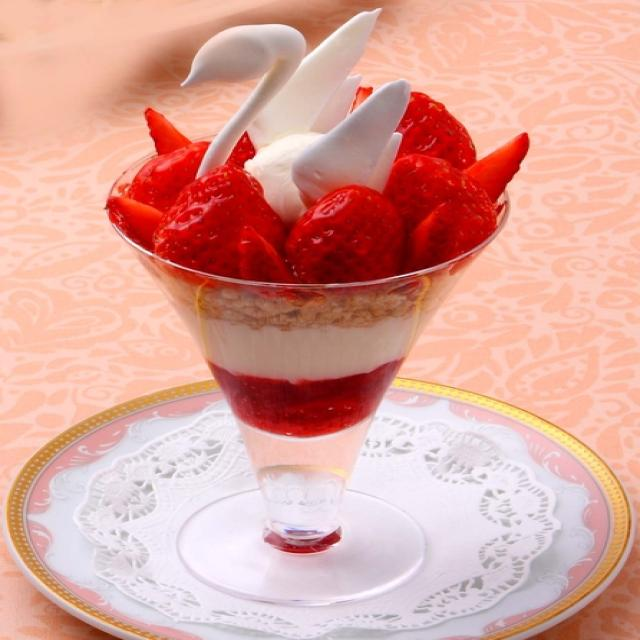蛋糕甜品: (23, 20, 620, 612)
